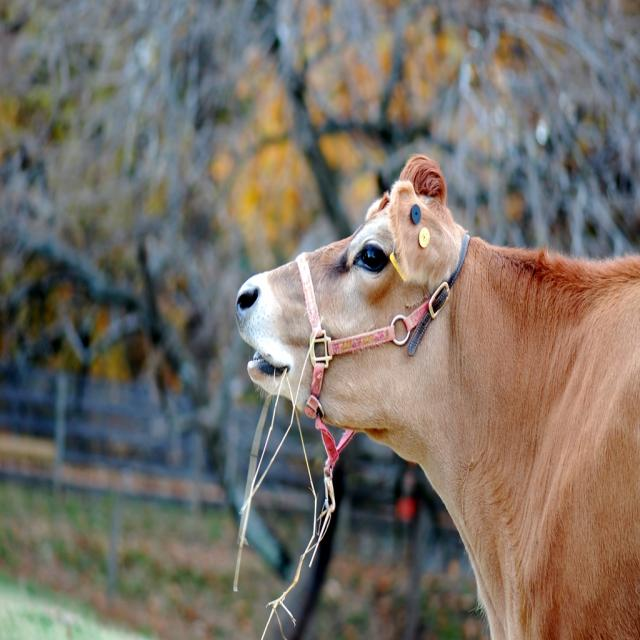Cattle: (235, 153, 640, 640)
